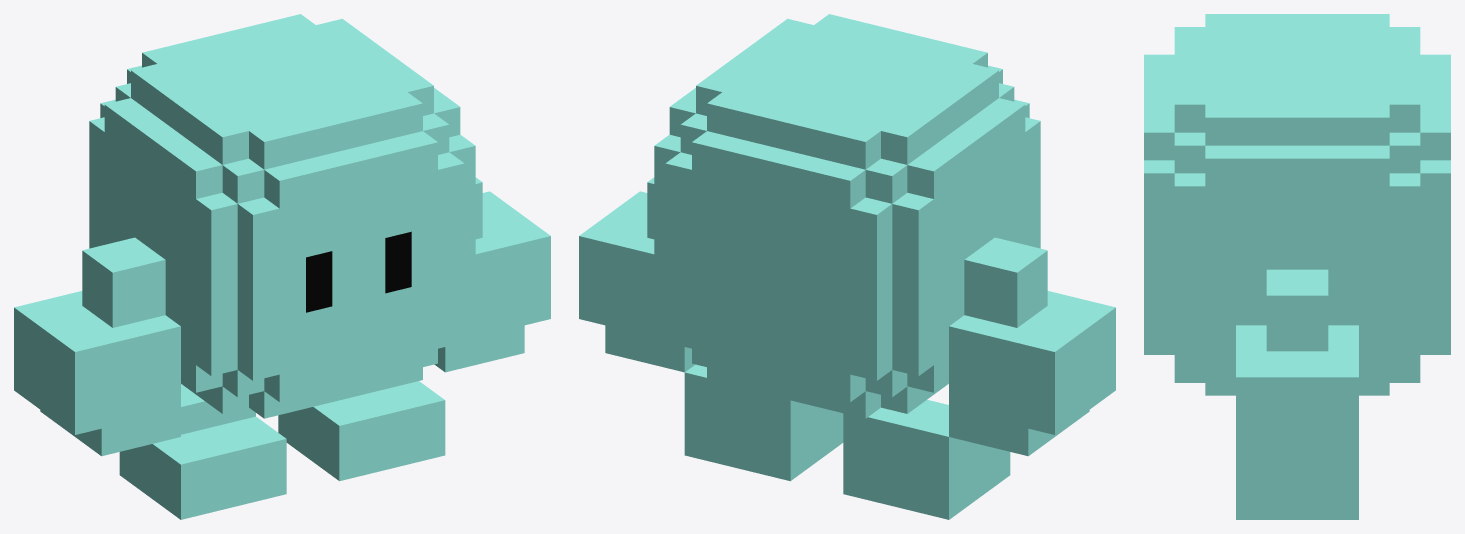
The model's file is player.fbx.
The picture shows the model from 3 angles, left to right: view 1: azimuth 30°, elevation 25°; view 2: azimuth 150°, elevation 25°; view 3: azimuth 270°, elevation 25°; orthographic projection.
Parts seen in each view (by area): view 1: Matrix, Matrix_2, Matrix_4, Matrix_1, Matrix_5; view 2: Matrix, Matrix_2, Matrix_4, Matrix_1, Matrix_5; view 3: Matrix, Matrix_1, Matrix_5.
Part boxes in pixels (x1,y1,x2,y2): Matrix: (89, 14, 475, 418); Matrix_2: (14, 237, 180, 456); Matrix_4: (119, 384, 286, 519); Matrix_1: (434, 177, 550, 372); Matrix_5: (278, 381, 445, 481); Matrix: (654, 14, 1040, 418); Matrix_2: (949, 237, 1115, 456); Matrix_4: (843, 399, 1010, 519); Matrix_1: (579, 177, 695, 372); Matrix_5: (684, 364, 843, 481); Matrix: (1144, 14, 1450, 395); Matrix_1: (1236, 269, 1358, 475); Matrix_5: (1236, 475, 1358, 519).
Size of the model in its own units: 18 by 14 by 10.
1 material, 1 textured.
